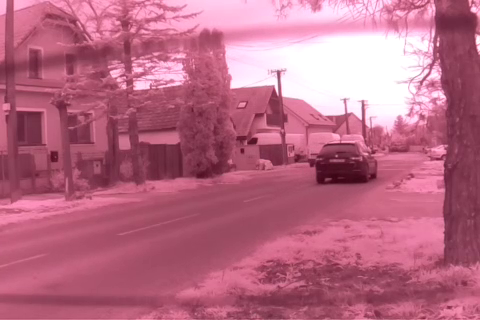car: (314, 138, 379, 188)
